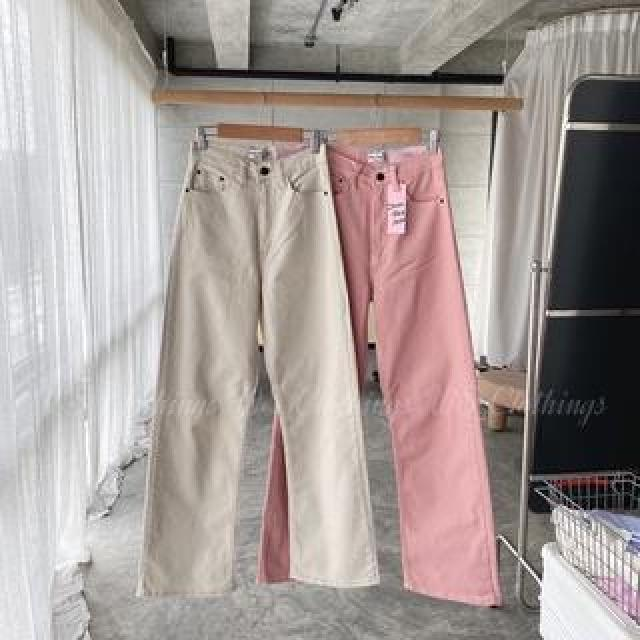pants: (257, 127, 511, 611), (130, 129, 380, 605)
